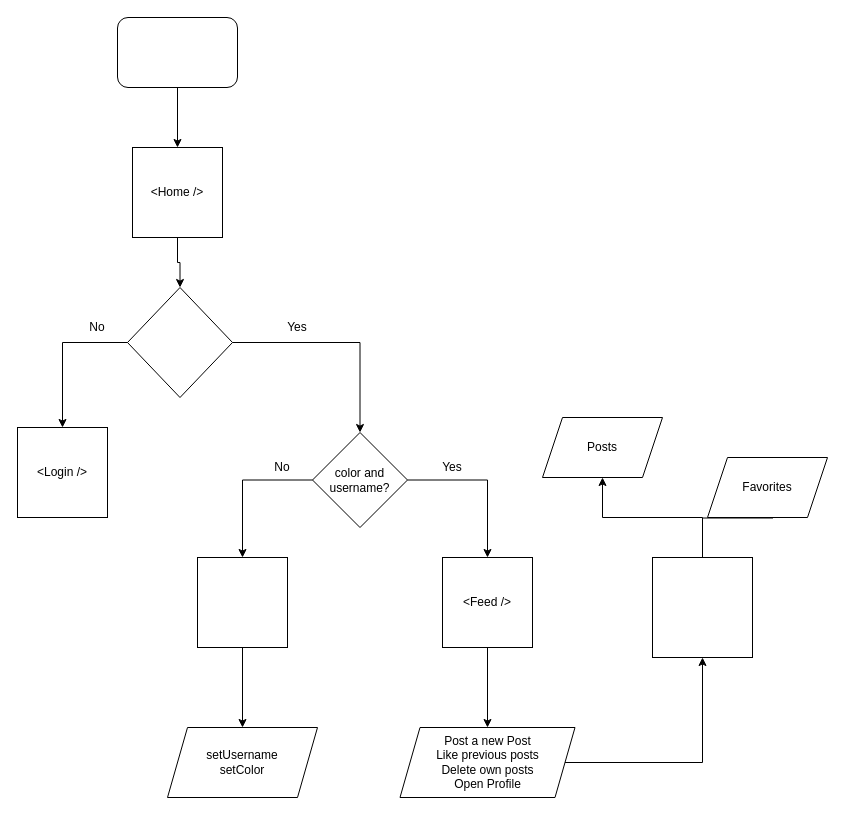
The diagram is 845 pixels wide and 815 high, and some of its shapes have lost their labels. The shapes that lost their labels are listed below. From the top down, each one's box as (x1, y1, x2, y2) in pixels, then its label:
(116, 16, 238, 88): Start
(126, 286, 232, 398): isUserLoggedIn
(196, 556, 288, 648): <Options />
(652, 556, 752, 658): <Profile />
